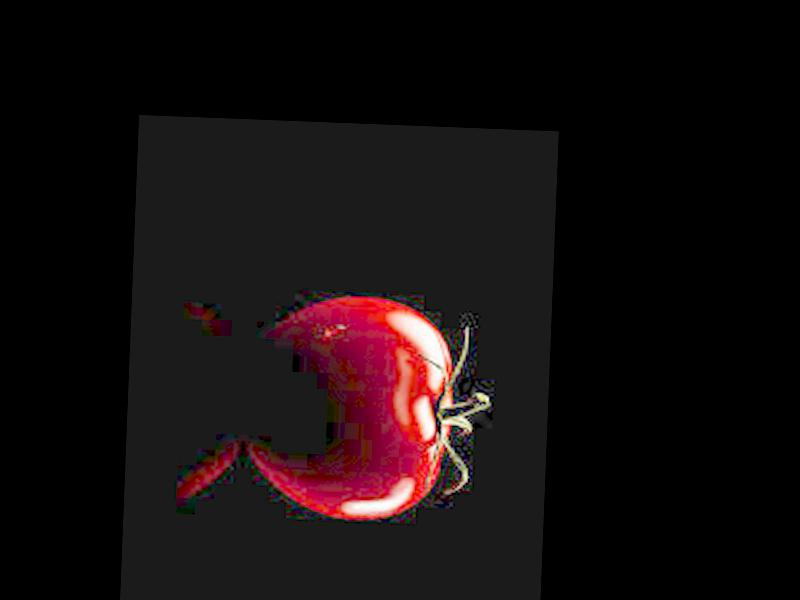Tomato: (251, 292, 462, 522)
